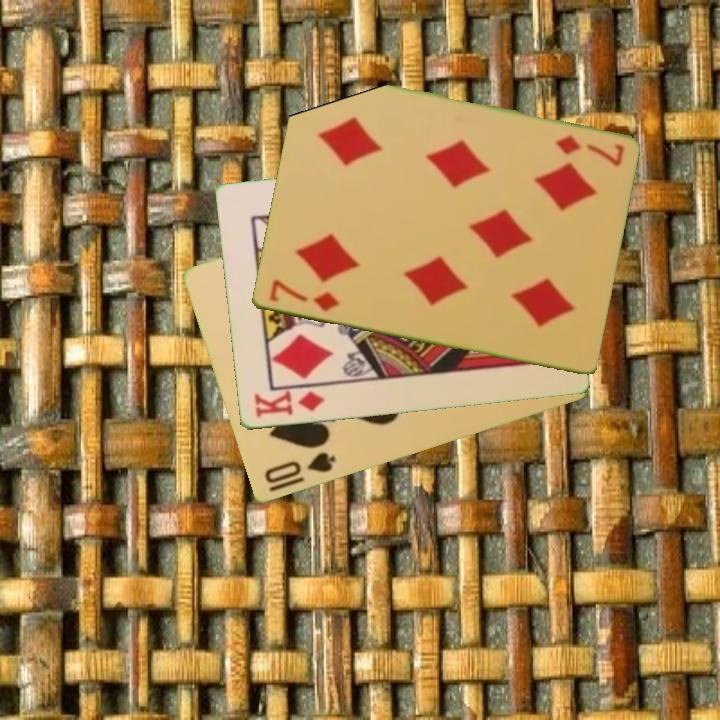10s: (260, 449, 339, 487)
7d: (265, 276, 342, 315), (551, 132, 627, 168)
Kd: (250, 387, 327, 421)
